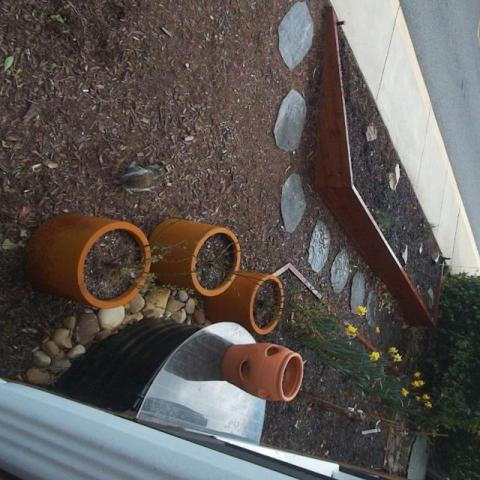small_animal: (117, 161, 170, 194)
